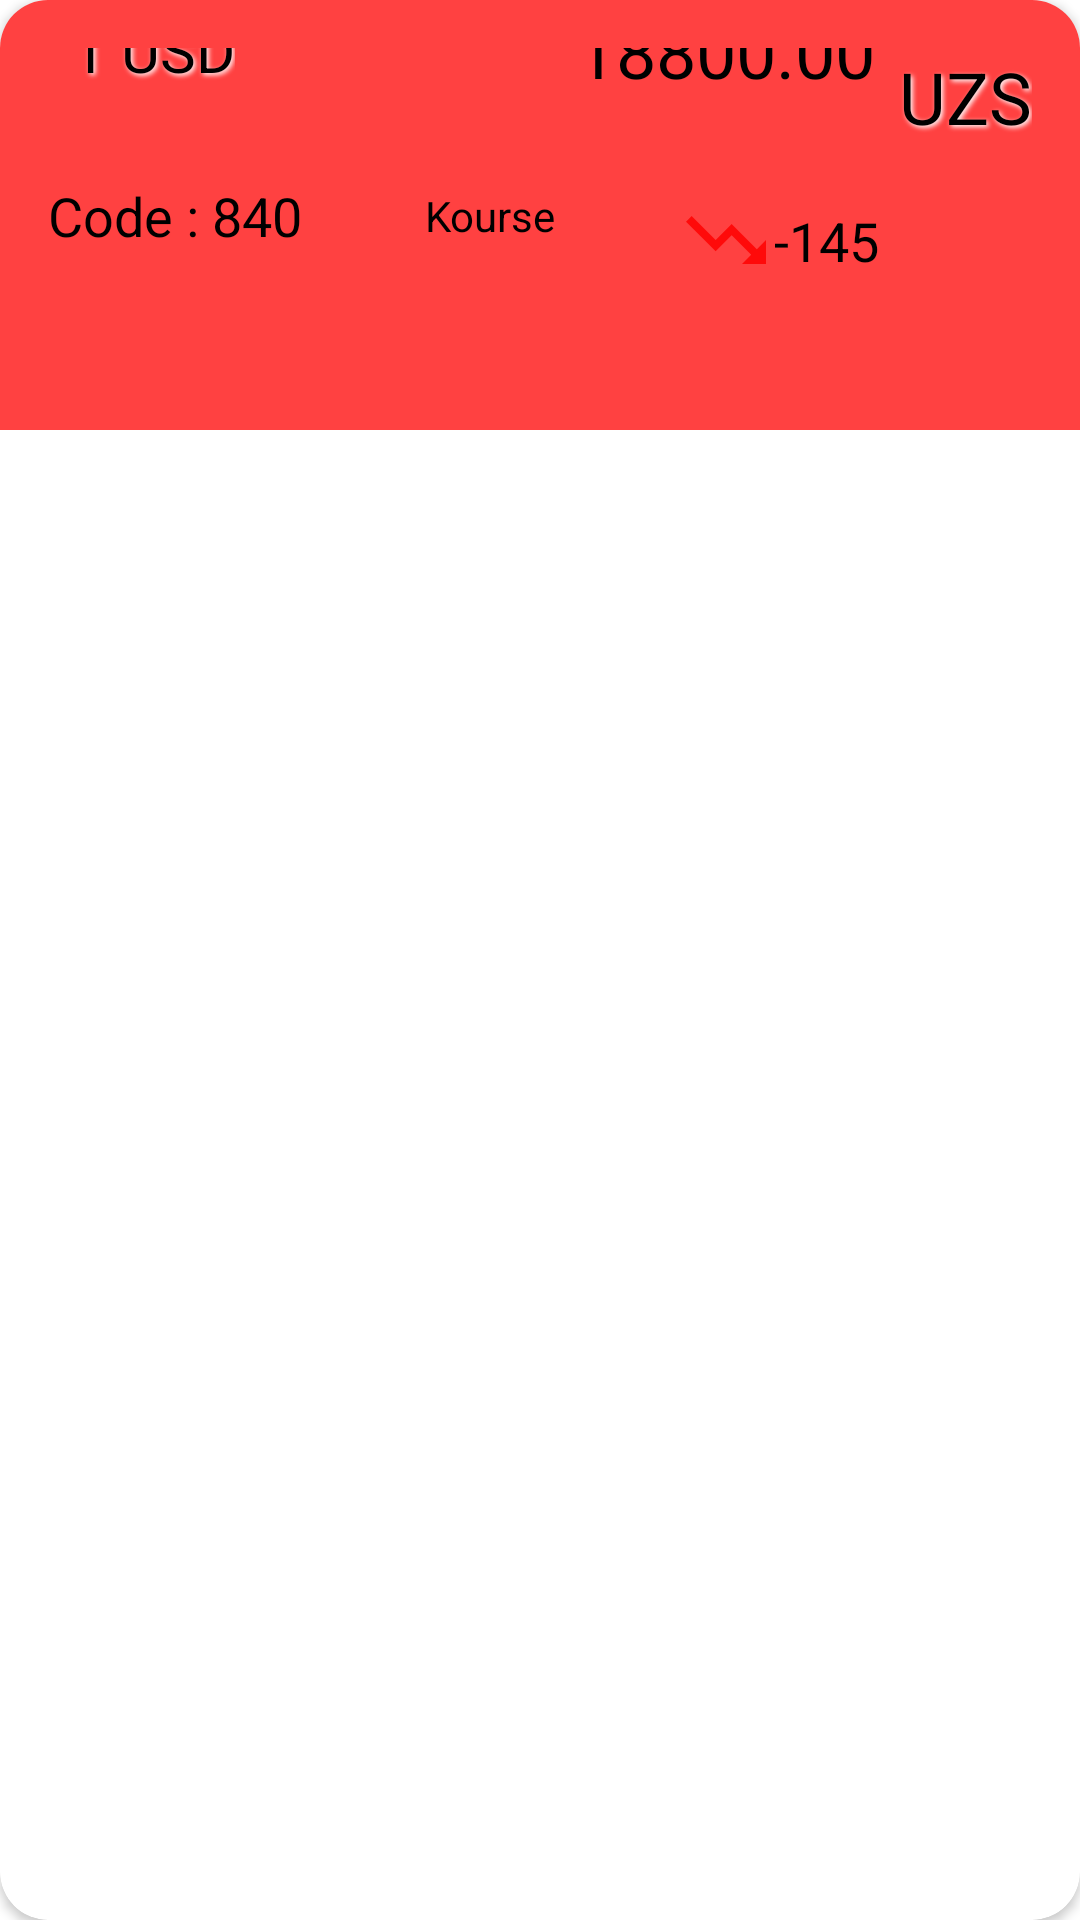

Point at icon controls on the screen. Image size 1080px x 1920px, points as point (x, y).
down: point (726, 240)
